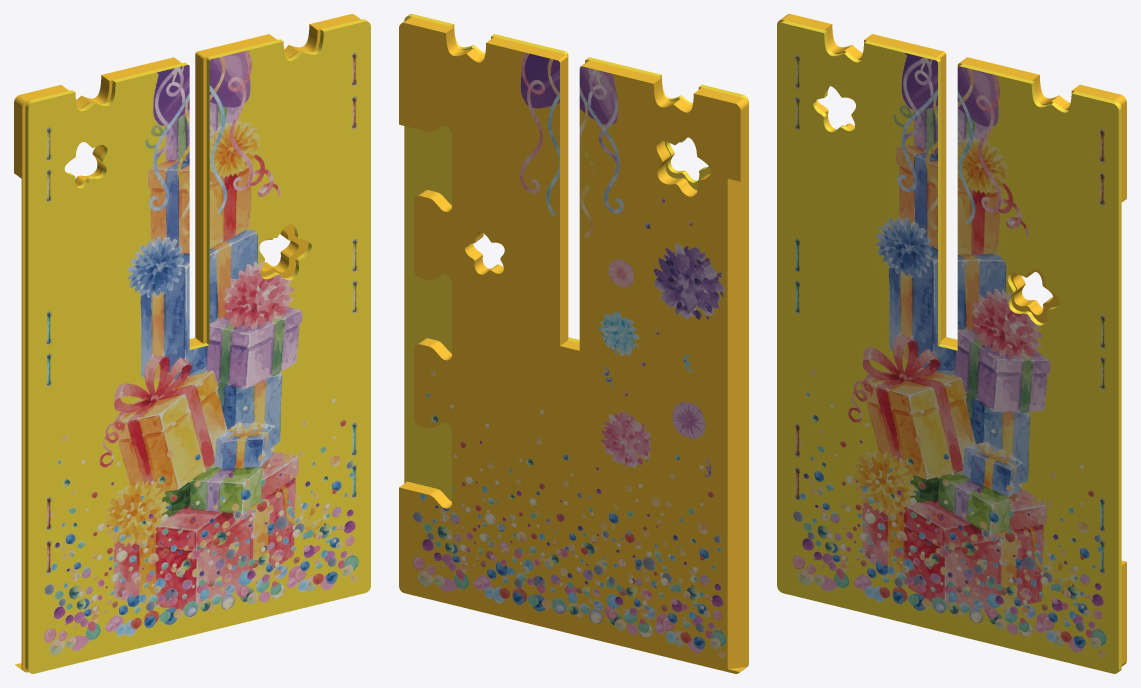
File: narrow-left-bottom-linked.glb
3 views of the same model, side by side, from view 1: azimuth 30°, elevation 25°; view 2: azimuth 150°, elevation 25°; view 3: azimuth 330°, elevation 25° (orthographic).
Parts seen in each view (by area): view 1: narrow-left-bottom-linked; view 2: narrow-left-bottom-linked; view 3: narrow-left-bottom-linked.
Boxes of the visible parts, bbox=[...] form: narrow-left-bottom-linked: bbox=[14, 14, 370, 673]; narrow-left-bottom-linked: bbox=[399, 14, 748, 673]; narrow-left-bottom-linked: bbox=[777, 14, 1126, 673].
Size of the model in its own units: 585 by 925 by 33.
Materials: 4 (2 with a texture image).
